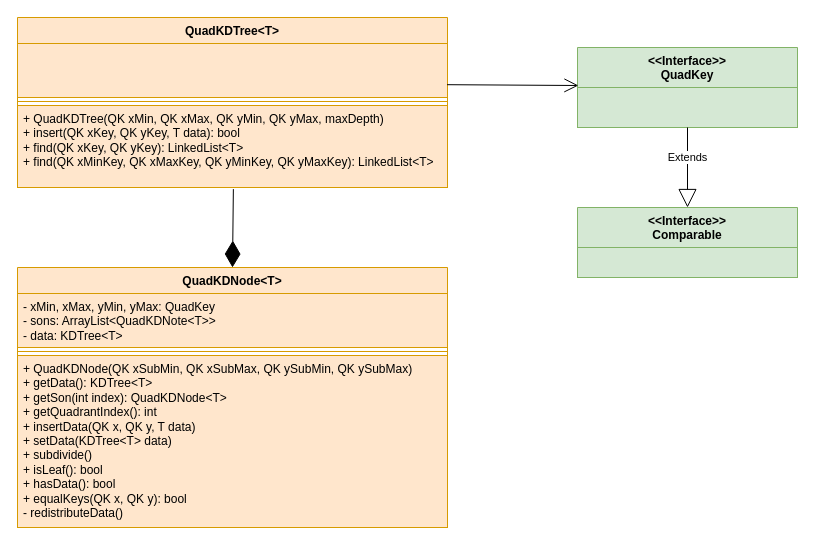
Some shapes in this 815 by 548 pixel diagram are drawn without their labels. The centre of each missing label's shape, as x and y in pixels:
"+ compare(Comparable other): int" belongs at point (687, 262).
"+ subtract(QuadKey other): QuadKey + half(): QuadKey" belongs at point (687, 107).
"- xMin, xMax, yMin, yMax: QuadKey - MAX_DEPTH: final int - root: QuadKDNote<T>" belongs at point (232, 70).
